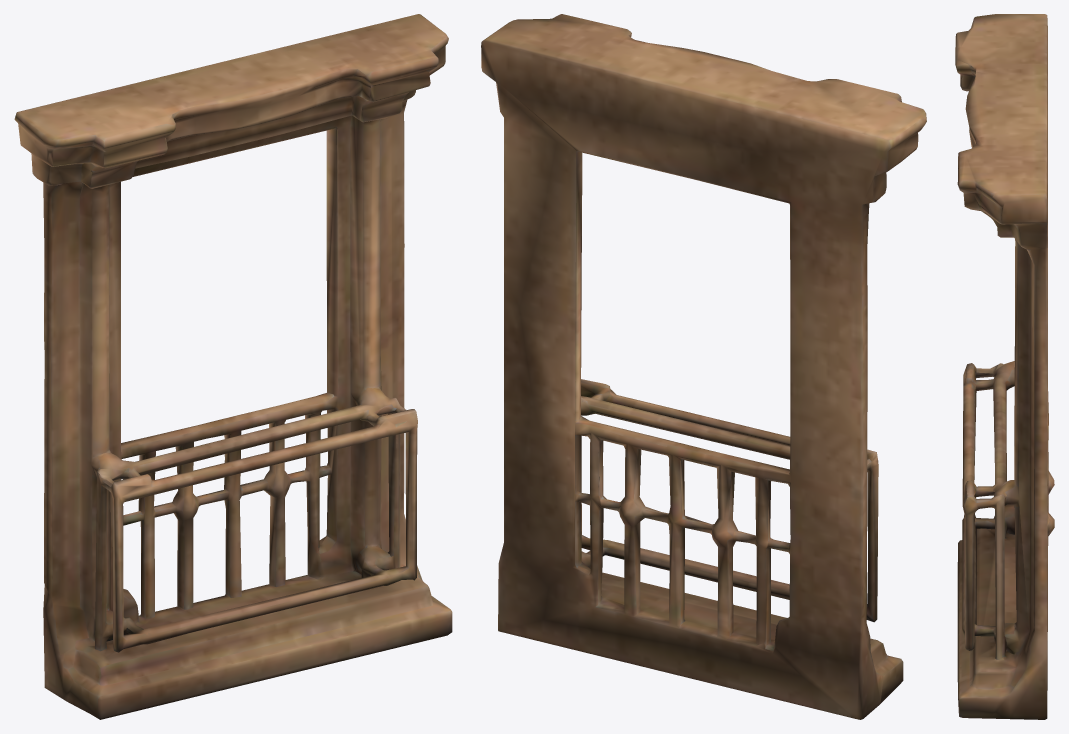
The model's file is worn-sandstone-balcony-v002.glb.
3 renders of one model, left to right at view 1: azimuth 30°, elevation 25°; view 2: azimuth 150°, elevation 25°; view 3: azimuth 270°, elevation 25°, orthographic. The views are drawn at different scales.
Visible parts, largest first — view 1: worn-sandstone-balcony; view 2: worn-sandstone-balcony; view 3: worn-sandstone-balcony.
Boxes of the visible parts, x1,y1,x2,y2 form: worn-sandstone-balcony: (14,14,452,719); worn-sandstone-balcony: (481,14,926,719); worn-sandstone-balcony: (955,14,1054,719).
Bounding box in the file's own units: 0.9527 × 1.3 × 0.2185.
1 material, 1 textured.
